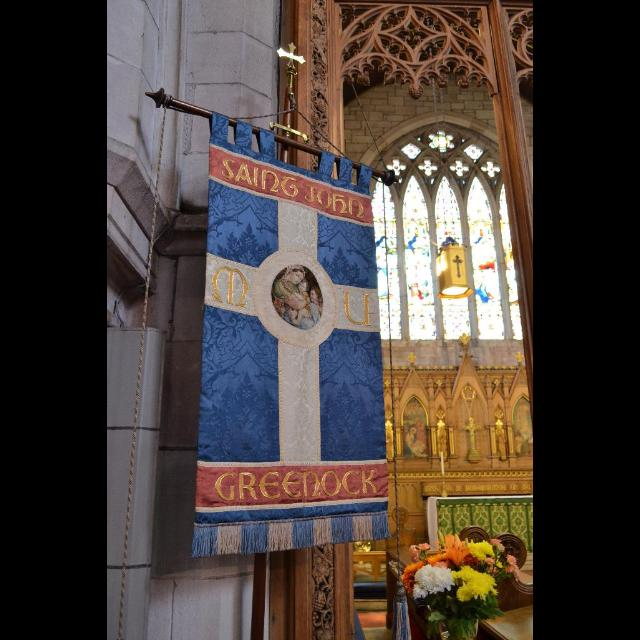Flower: (404, 536, 518, 612)
